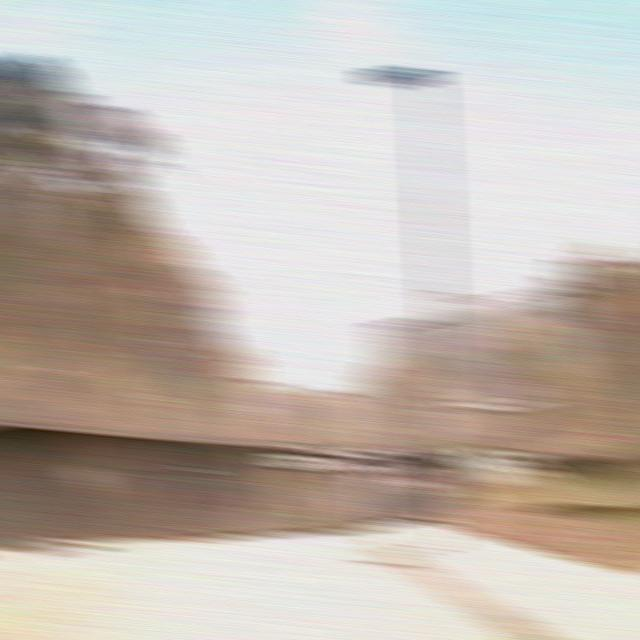speedLimit35: (422, 375, 461, 418)
